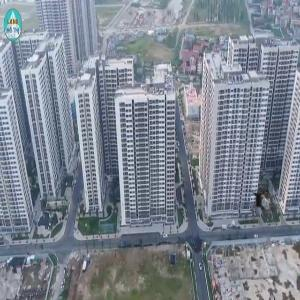drone: (232, 171, 293, 232)
